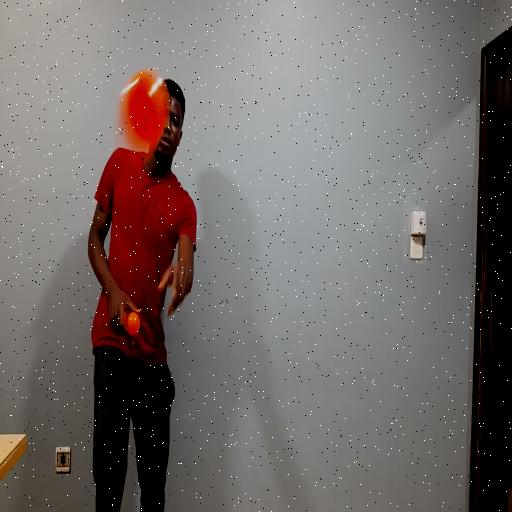plastic-ball: (110, 64, 175, 167)
